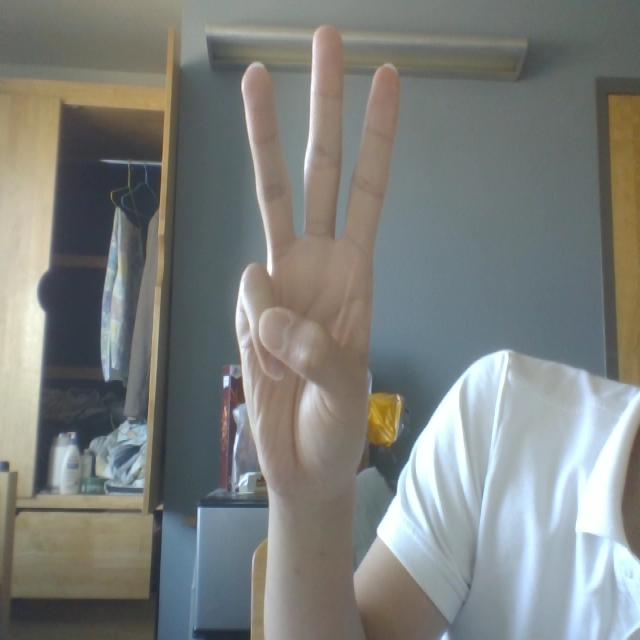W: (208, 7, 413, 512)
